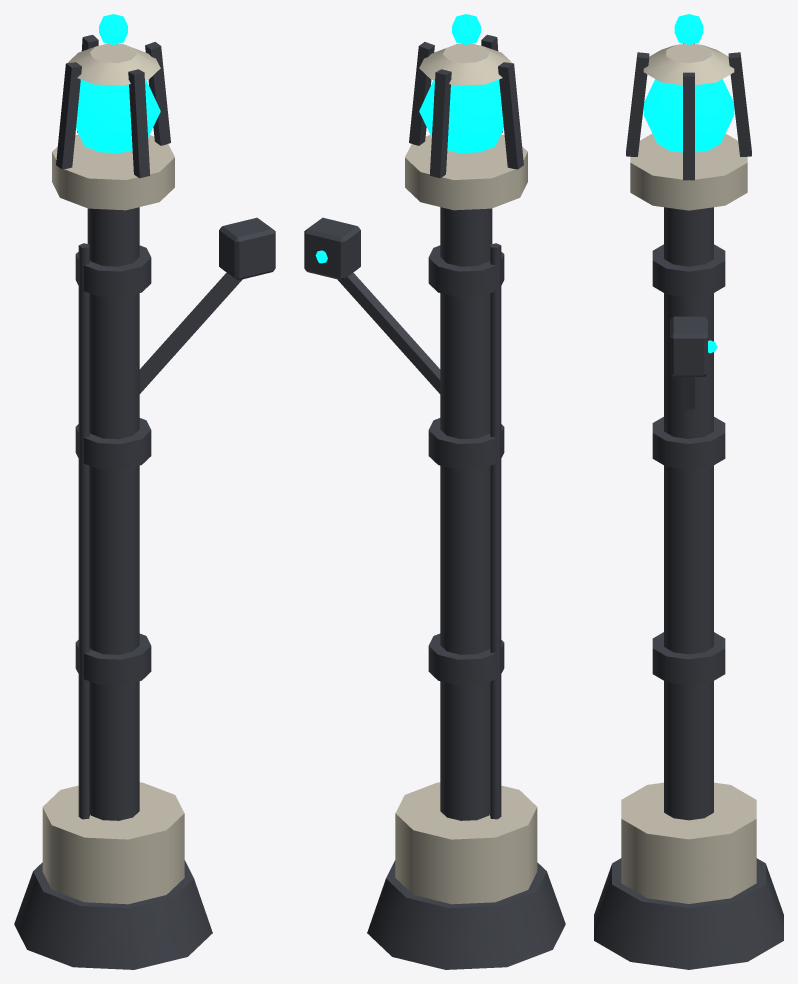
Rendered from beacon_post.glb.
3 views of the same model, side by side, from view 1: azimuth 30°, elevation 25°; view 2: azimuth 150°, elevation 25°; view 3: azimuth 270°, elevation 25° (orthographic).
Visible parts, largest first — view 1: beacon_post; view 2: beacon_post; view 3: beacon_post.
Part boxes in pixels (x1=…): beacon_post: x1=14, y1=14, x2=275, y2=969; beacon_post: x1=304, y1=14, x2=565, y2=969; beacon_post: x1=594, y1=14, x2=783, y2=969.
Size of the model in its own units: 1.17 by 4.24 by 0.7989.
